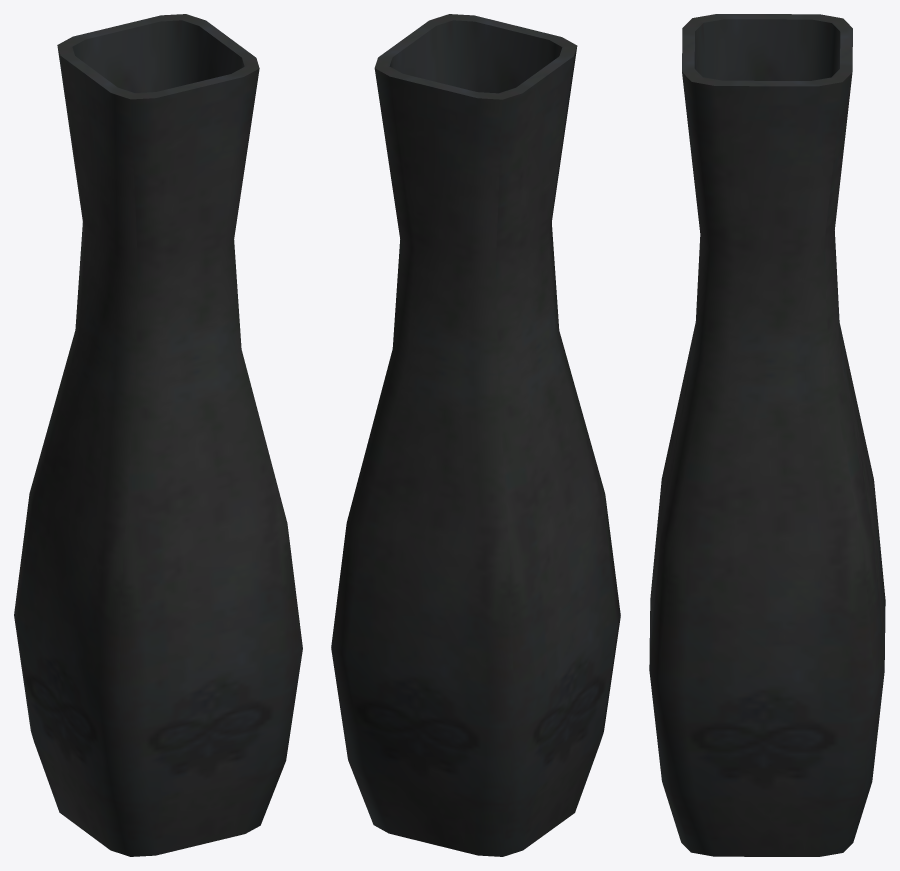
The model's file is dub_rest_vase_alone_lod0.glb.
The picture shows the model from 3 angles, left to right: view 1: azimuth 30°, elevation 25°; view 2: azimuth 150°, elevation 25°; view 3: azimuth 270°, elevation 25°; orthographic projection.
Visible parts, largest first — view 1: surf0; view 2: surf0; view 3: surf0.
Part boxes in pixels (box(x1,y1,x2,y2)): surf0: box(14, 14, 302, 856); surf0: box(331, 14, 620, 856); surf0: box(649, 14, 885, 856).
Bounding box in the file's own units: 2.93 × 10.54 × 2.93.
